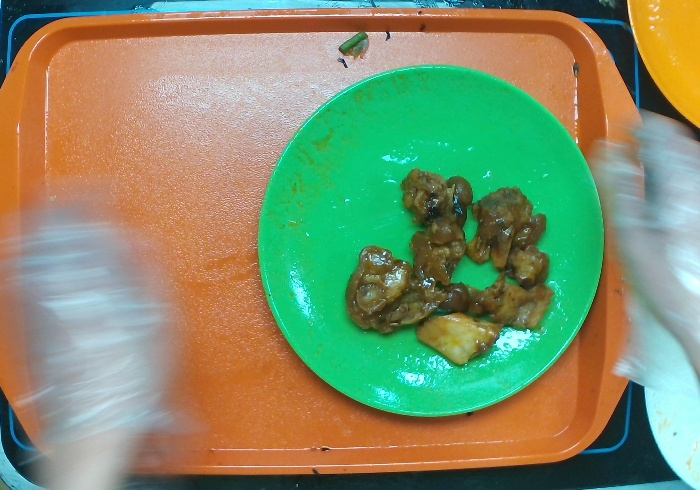HZYJPL-Lv_Se_Yuan_Pan: (254, 62, 607, 421)
